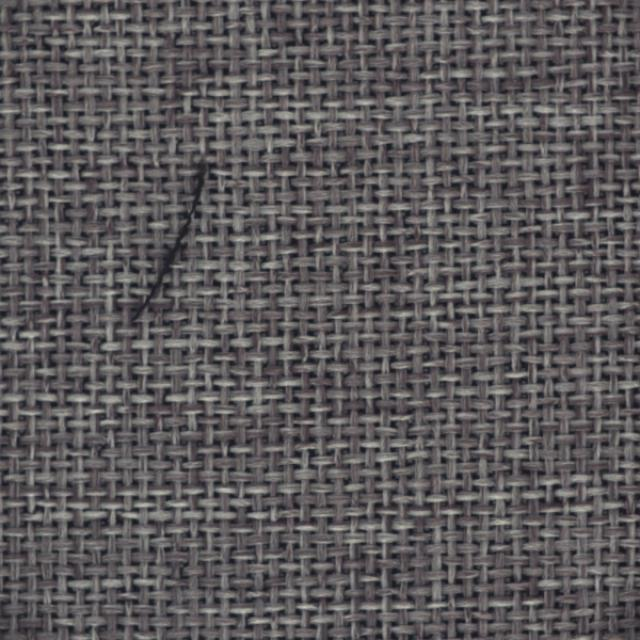Thread: (128, 160, 212, 324)
